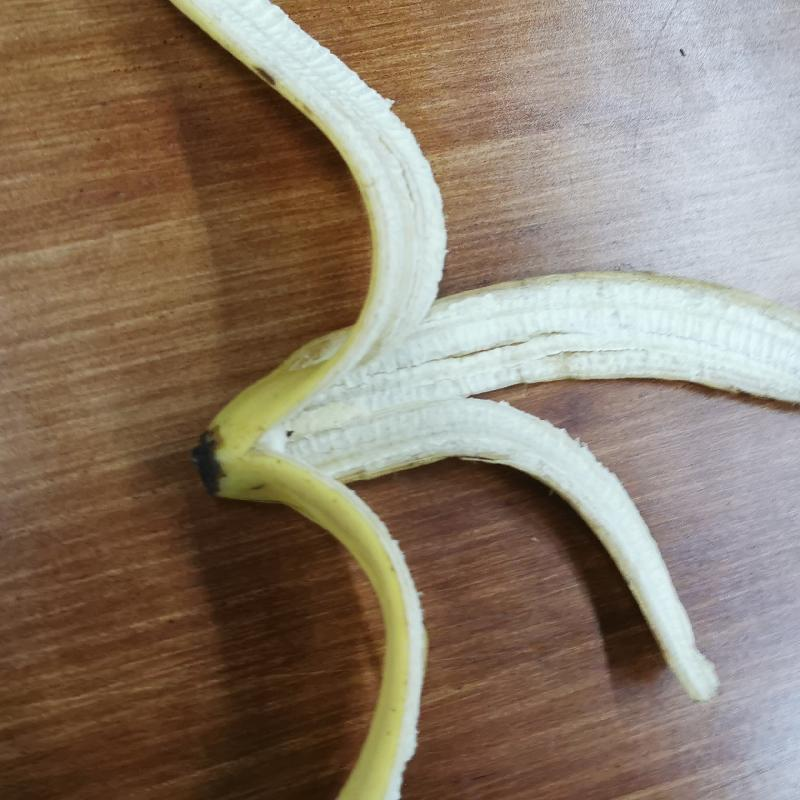bananas: (89, 3, 800, 794)
